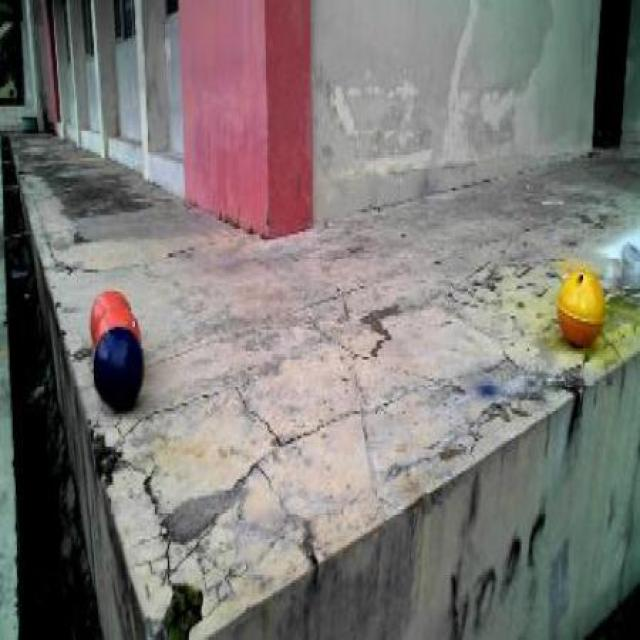buoy: (86, 318, 152, 419), (552, 260, 609, 358), (85, 282, 137, 347), (88, 303, 145, 353)
